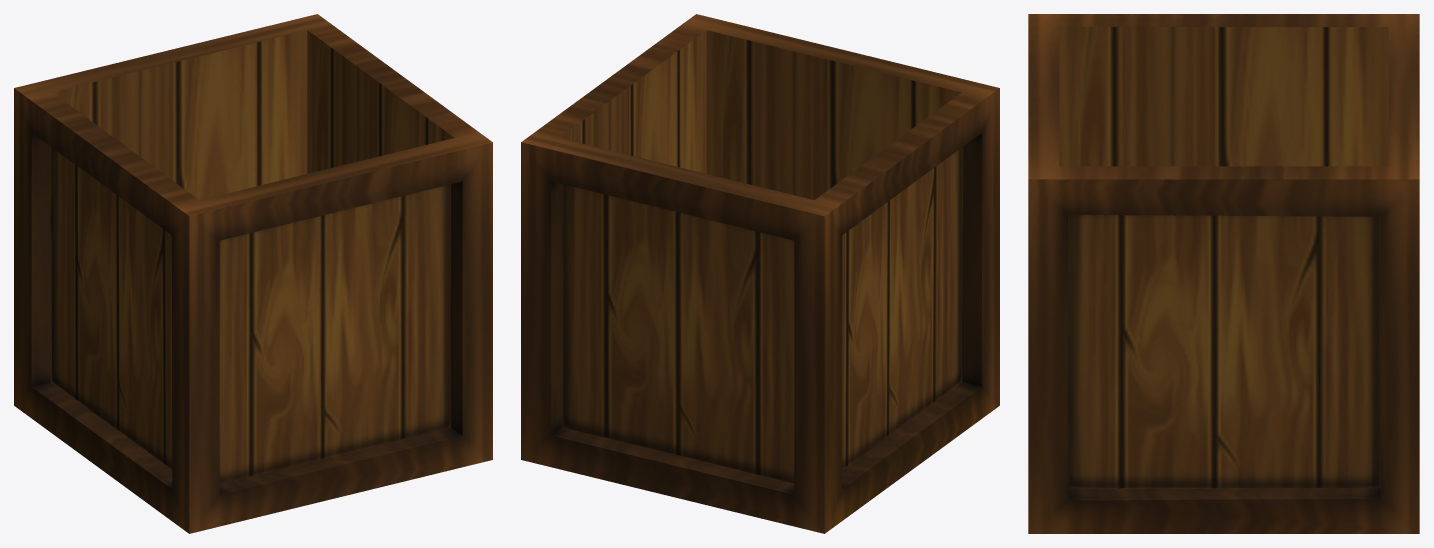
The model's file is woodenbox-for-minigame-hollow.fbx.
The picture shows the model from 3 angles, left to right: view 1: azimuth 30°, elevation 25°; view 2: azimuth 150°, elevation 25°; view 3: azimuth 270°, elevation 25°; orthographic projection. The views are drawn at different scales.
Visible parts, largest first — view 1: wooden_box_minigame, wooden_inside_minigame; view 2: wooden_box_minigame, wooden_inside_minigame; view 3: wooden_box_minigame, wooden_inside_minigame.
Part boxes in pixels (x1,y1,x2,y2): wooden_box_minigame: [14, 14, 492, 533]; wooden_inside_minigame: [52, 30, 454, 200]; wooden_box_minigame: [521, 14, 999, 533]; wooden_inside_minigame: [559, 30, 961, 200]; wooden_box_minigame: [1028, 14, 1419, 533]; wooden_inside_minigame: [1059, 27, 1388, 166].
Bounding box in the file's own units: 202 × 200 × 200.
2 materials, 2 textured.
